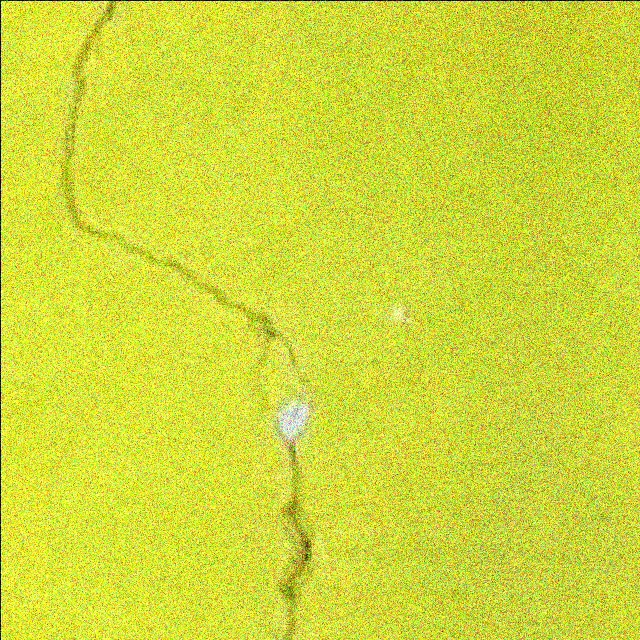SurfaceCrack: (46, 0, 336, 640)
